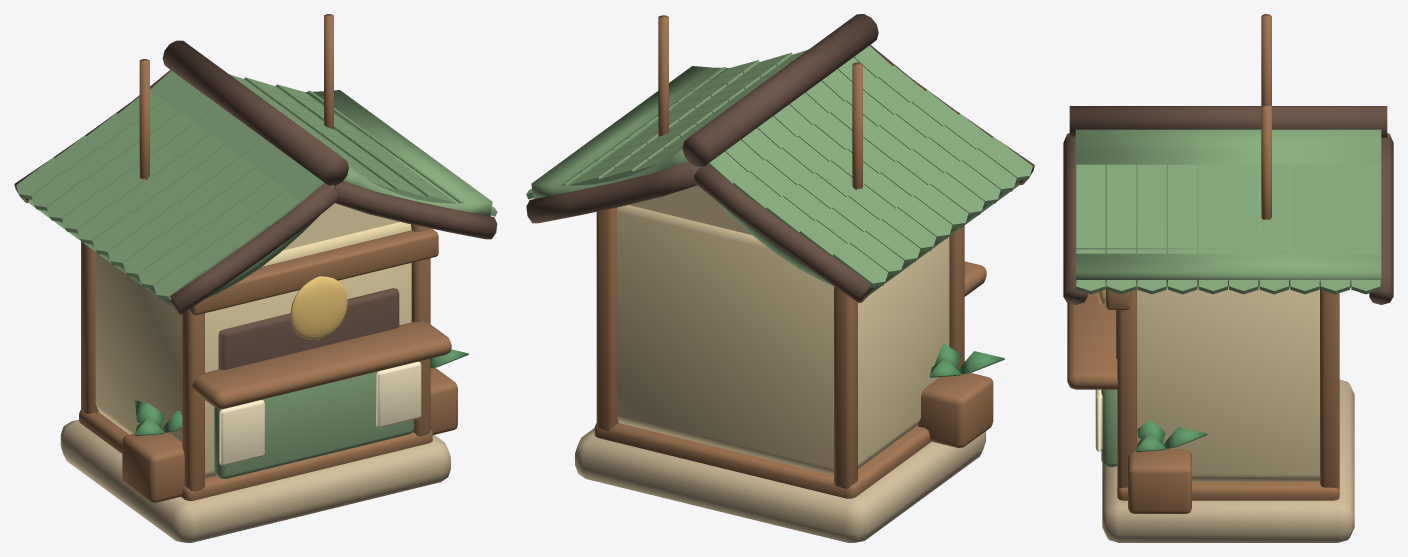
The model's file is booth_expand.glb.
The picture shows the model from 3 angles, left to right: view 1: azimuth 30°, elevation 25°; view 2: azimuth 150°, elevation 25°; view 3: azimuth 270°, elevation 25°; orthographic projection. The views are drawn at different scales.
Parts seen in each view (by area): view 1: booth_expand_crafted_mesh; view 2: booth_expand_crafted_mesh; view 3: booth_expand_crafted_mesh.
Boxes of the visible parts, x1,y1,x2,y2 form: booth_expand_crafted_mesh: [14, 14, 497, 542]; booth_expand_crafted_mesh: [526, 14, 1034, 542]; booth_expand_crafted_mesh: [1063, 14, 1393, 542].
Size of the model in its own units: 2.57 by 3.05 by 2.17.
